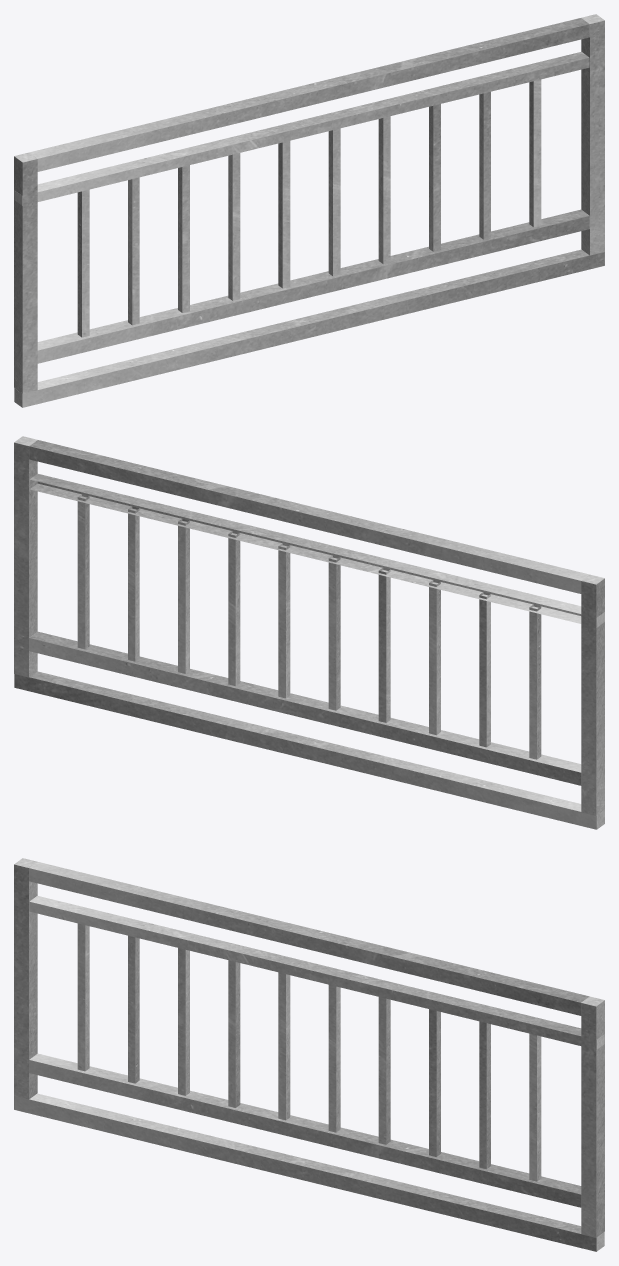
Rendered from Bar_001.fbx.
3 renders of one model, top to bottom at view 1: azimuth 30°, elevation 25°; view 2: azimuth 150°, elevation 25°; view 3: azimuth 330°, elevation 25°, orthographic.
Visible parts, largest first — view 1: Bar_001; view 2: Bar_001; view 3: Bar_001.
Boxes of the visible parts, bbox=[...] form: Bar_001: bbox=[14, 14, 604, 407]; Bar_001: bbox=[14, 436, 604, 829]; Bar_001: bbox=[14, 858, 604, 1251].
Bounding box in the file's own units: 171 × 68.72 × 4.42.
1 material, 1 textured.
